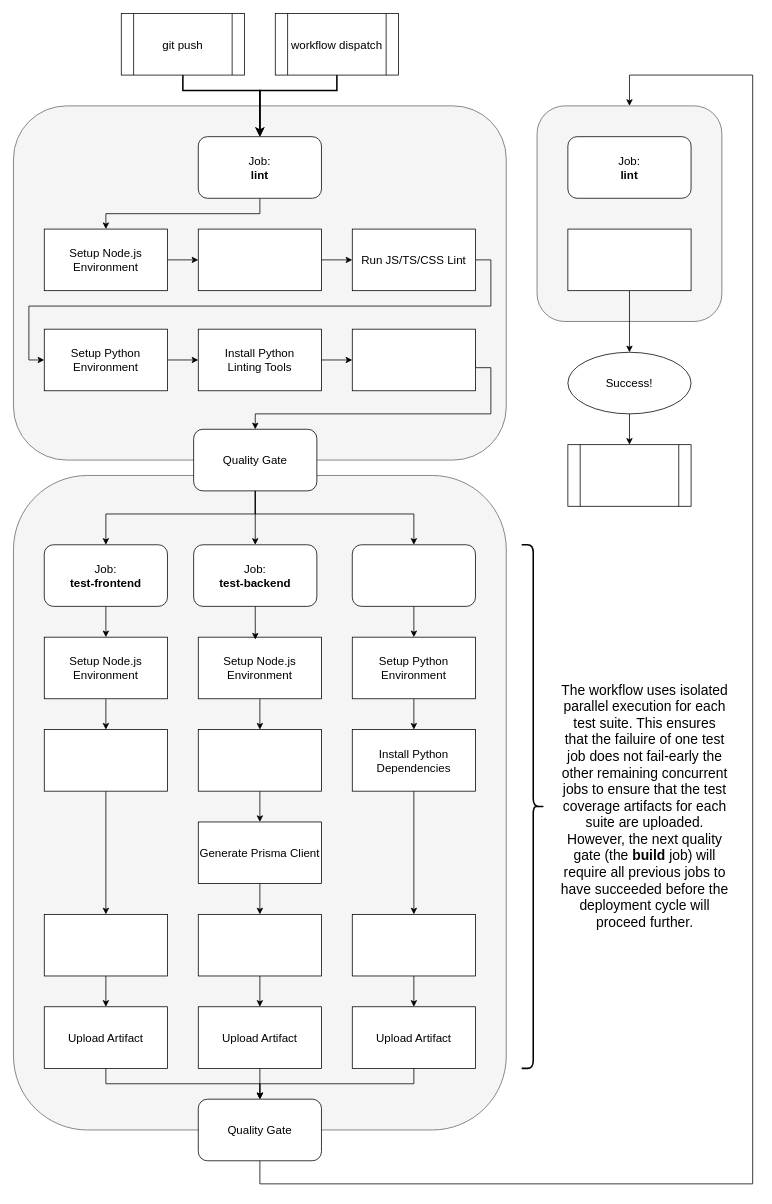
Image size: 772x1204. Some labels were removed from this diagram. The centre of each missing label's shape, as x and y in pixels:
"Docker Compose Build (profile: dev)" goes at point (629, 259).
"Install Backend Dependencies" goes at point (259, 760).
"Install Frontend Dependencies" goes at point (105, 760).
"Install JS Dependencies" goes at point (259, 259).
"Job: test-python" goes at point (413, 575).
"Run Backend Tests" goes at point (259, 945).
"Run Frontend Tests" goes at point (105, 945).
"Run Python Lint" goes at point (413, 359).
"Run Python Tests" goes at point (413, 945).
"Workflow: CD Pipeline" goes at point (629, 475).
